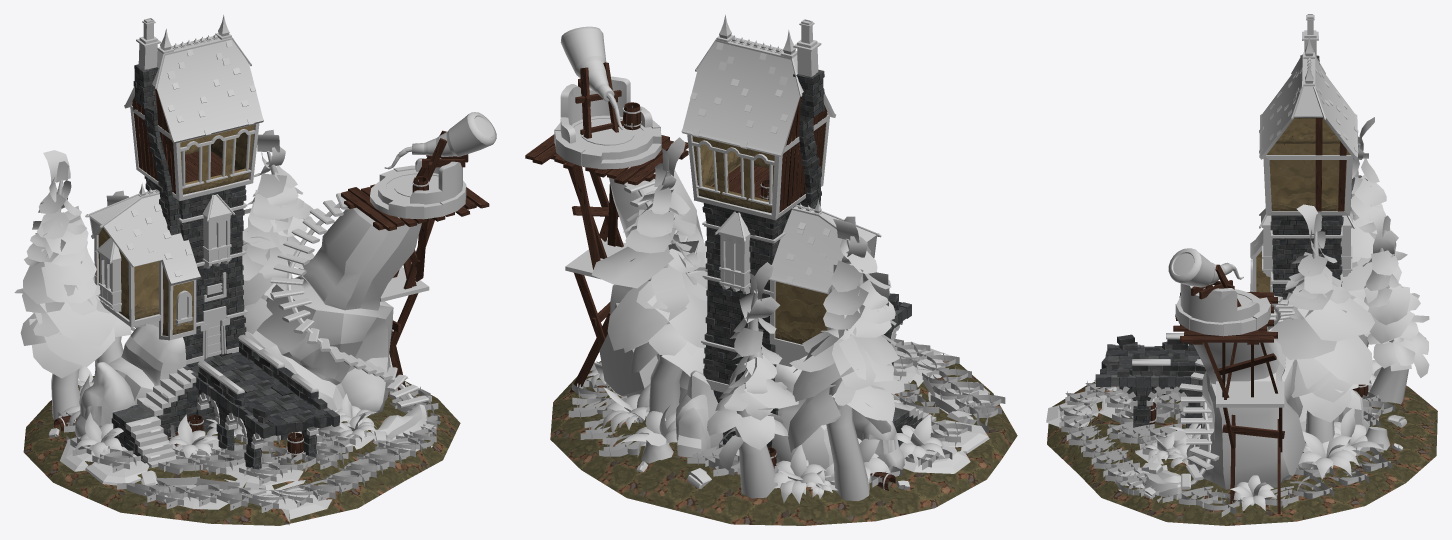
3 views of the same model, side by side, from view 1: azimuth 30°, elevation 25°; view 2: azimuth 150°, elevation 25°; view 3: azimuth 270°, elevation 25° (orthographic). The views are drawn at different scales.
Parts seen in each view (by area): view 1: Group1_Low001_UV, Cylinder047_UV, Object373_21 - Default_0, Uniques_UV, Grass_031, Object368_01 - Default_0, Object374_22 - Default_0, Object323_UV, Object377_06 - Default_0, Object371_01 - Default_0, Object286_UV, Object301_01 - Default_0 (+26 smaller); view 2: Cylinder047_UV, Object373_21 - Default_0, Object374_22 - Default_0, Group1_Low001_UV, Object368_01 - Default_0, Plane174, Uniques_UV, Object375_04 - Default_0, Object286_UV, Object376_10 - Default_0, Object371_01 - Default_0, Grass_031 (+24 smaller); view 3: Cylinder047_UV, Object374_22 - Default_0, Group1_Low001_UV, Object376_10 - Default_0, Plane174, Object377_06 - Default_0, Object368_01 - Default_0, Uniques_UV, Object373_21 - Default_0, Object300_01 - Default_0, Object284_mt_Plaster_0, Box072_UV (+19 smaller).
Part boxes in pixels (left/top/right/bottom): Group1_Low001_UV: left=75, top=207, right=427, bottom=439; Cylinder047_UV: left=23, top=376, right=460, bottom=525; Object373_21 - Default_0: left=14, top=150, right=117, bottom=378; Uniques_UV: left=85, top=14, right=259, bottom=364; Grass_031: left=117, top=414, right=346, bottom=512; Object368_01 - Default_0: left=124, top=39, right=263, bottom=143; Object374_22 - Default_0: left=242, top=129, right=314, bottom=305; Object323_UV: left=183, top=352, right=339, bottom=438; Object377_06 - Default_0: left=292, top=393, right=440, bottom=491; Object371_01 - Default_0: left=89, top=191, right=200, bottom=285; Object286_UV: left=146, top=179, right=245, bottom=358; Object301_01 - Default_0: left=125, top=334, right=318, bottom=467; Cylinder047_UV: left=550, top=361, right=1017, bottom=525; Object373_21 - Default_0: left=787, top=216, right=904, bottom=452; Object374_22 - Default_0: left=591, top=137, right=707, bottom=373; Group1_Low001_UV: left=599, top=167, right=904, bottom=473; Object368_01 - Default_0: left=681, top=41, right=835, bottom=157; Plane174: left=707, top=262, right=798, bottom=470; Uniques_UV: left=687, top=14, right=881, bottom=392; Object375_04 - Default_0: left=687, top=414, right=971, bottom=503; Object286_UV: left=703, top=202, right=800, bottom=384; Object376_10 - Default_0: left=568, top=361, right=677, bottom=457; Object371_01 - Default_0: left=769, top=206, right=876, bottom=293; Grass_031: left=893, top=339, right=1005, bottom=433; Cylinder047_UV: left=1047, top=382, right=1437, bottom=525; Object374_22 - Default_0: left=1269, top=204, right=1374, bottom=422; Group1_Low001_UV: left=1144, top=327, right=1369, bottom=498; Object376_10 - Default_0: left=1176, top=406, right=1392, bottom=516; Plane174: left=1362, top=207, right=1429, bottom=377; Object377_06 - Default_0: left=1066, top=422, right=1202, bottom=502; Object368_01 - Default_0: left=1259, top=57, right=1357, bottom=159; Uniques_UV: left=1250, top=14, right=1352, bottom=292; Object373_21 - Default_0: left=1341, top=117, right=1410, bottom=336; Object300_01 - Default_0: left=1168, top=248, right=1284, bottom=407; Object284_mt_Plaster_0: left=1269, top=160, right=1346, bottom=211; Box072_UV: left=1203, top=342, right=1284, bottom=514.
Bounding box in the file's own units: 26.55 × 25.17 × 22.55.
